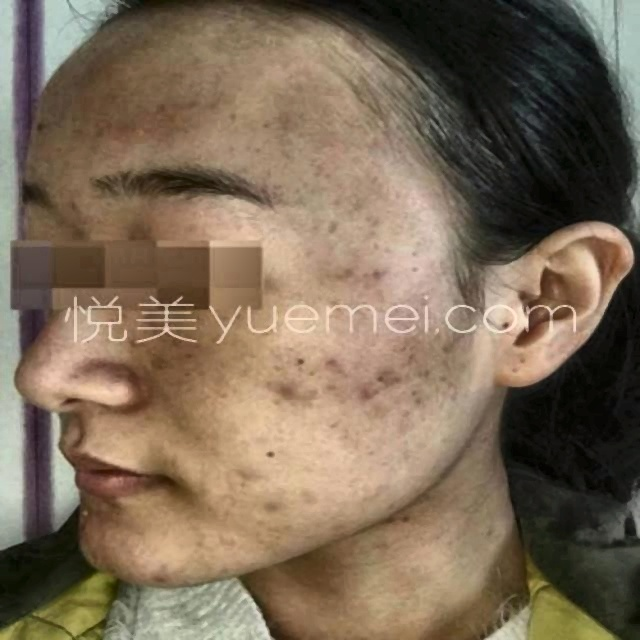pustule: (376, 359, 414, 388), (360, 266, 396, 292), (235, 463, 269, 487), (271, 376, 302, 400), (146, 566, 179, 588), (320, 352, 348, 370), (357, 384, 382, 404)
